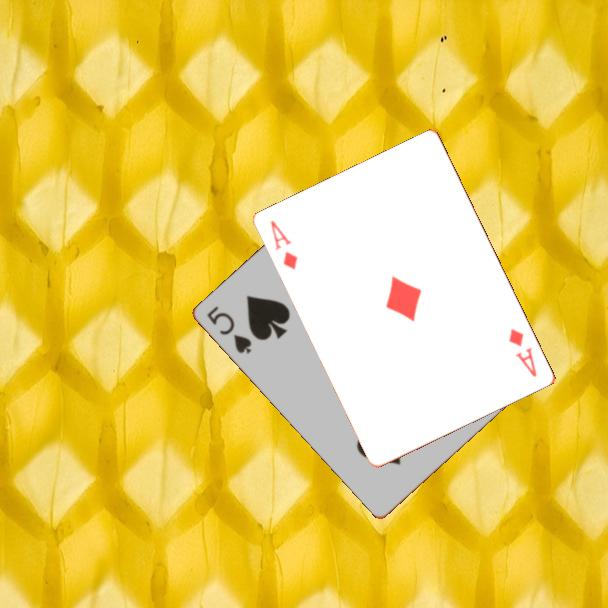d01: (505, 324, 540, 380), (267, 217, 301, 273)
s05: (204, 302, 255, 357)
